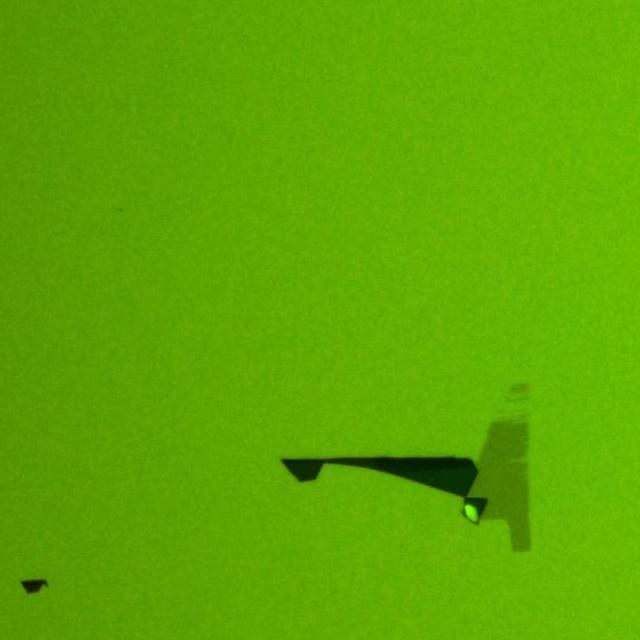monolayer-eWW4: (472, 414, 540, 550)
